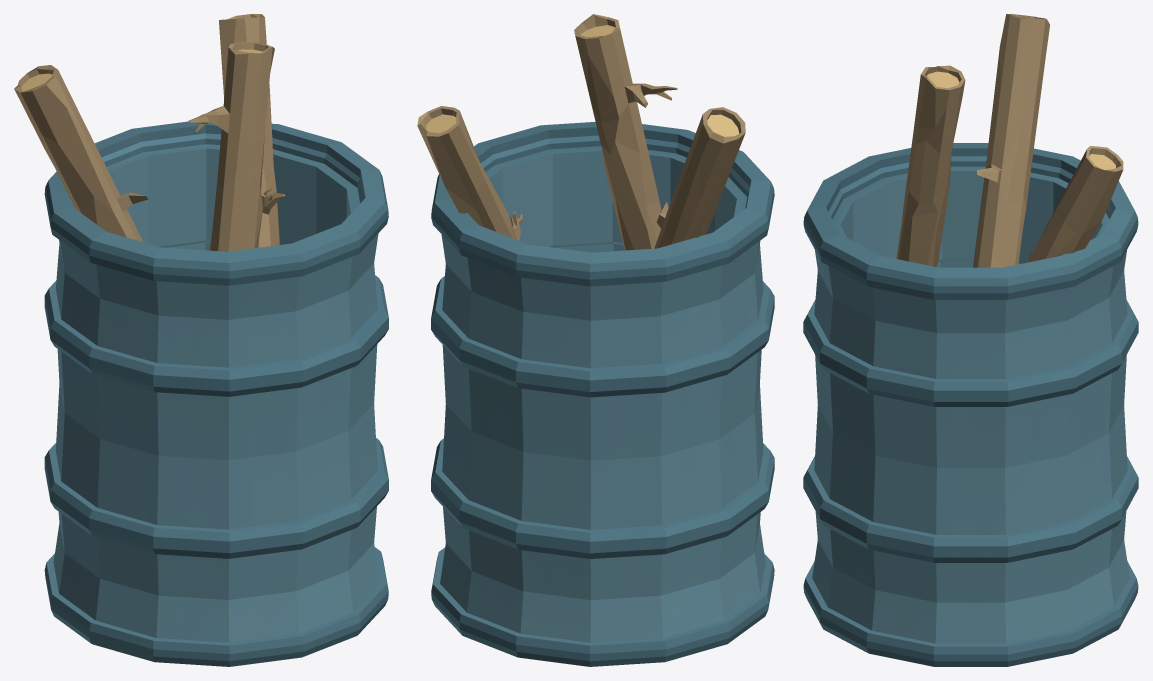
Rendered from barell_With_wood.glb.
3 views of the same model, side by side, from view 1: azimuth 30°, elevation 25°; view 2: azimuth 150°, elevation 25°; view 3: azimuth 270°, elevation 25° (orthographic). The views are drawn at different scales.
Visible parts, largest first — view 1: barell_With_wood; view 2: barell_With_wood; view 3: barell_With_wood.
Part boxes in pixels (bbox=[...]): barell_With_wood: bbox=[14, 14, 388, 666]; barell_With_wood: bbox=[417, 14, 774, 666]; barell_With_wood: bbox=[803, 14, 1138, 666].
Size of the model in its own units: 0.7344 by 1.24 by 0.6992.
Materials: 1 (1 with a texture image).
